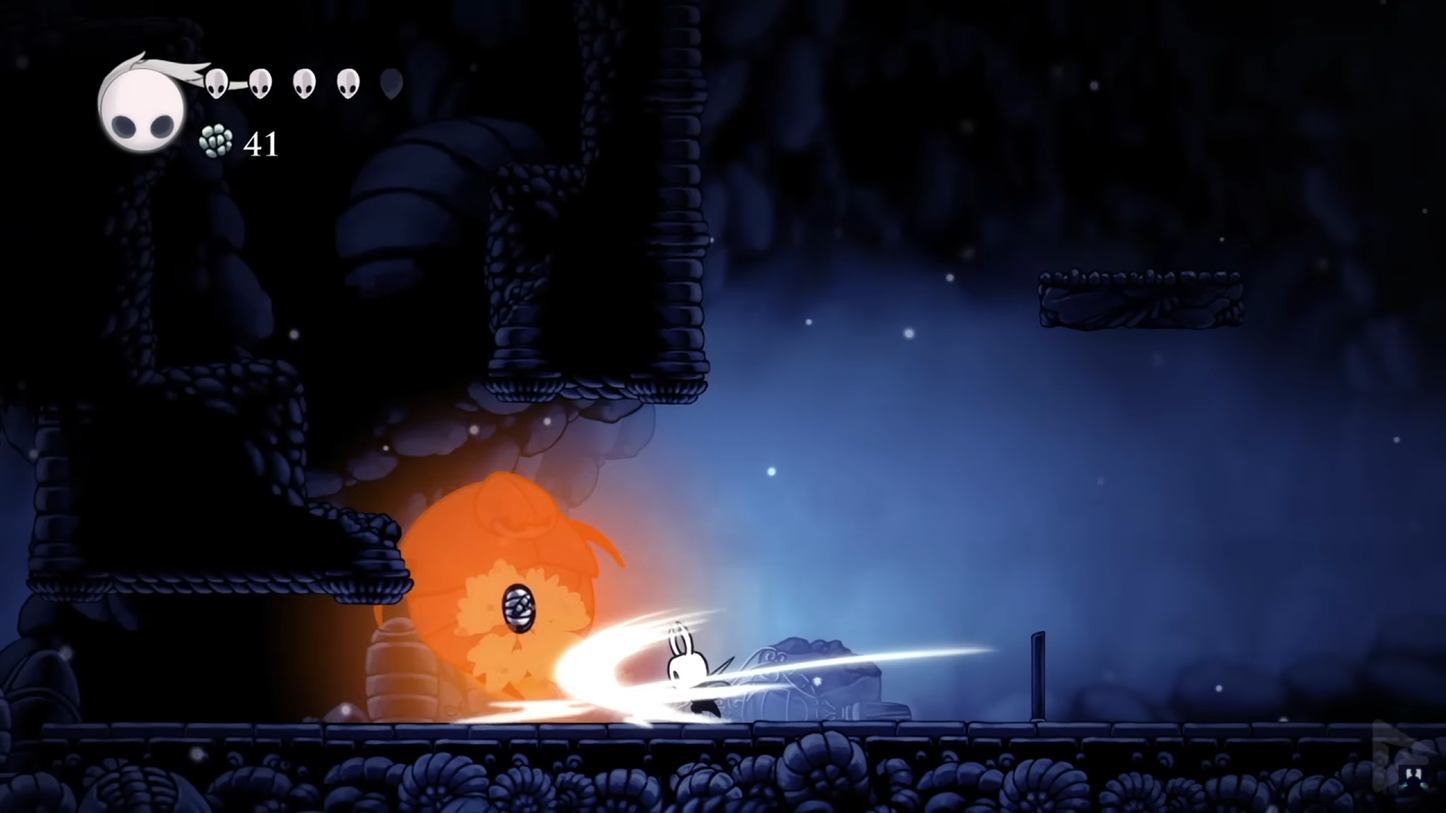HK: (658, 626, 718, 725)
